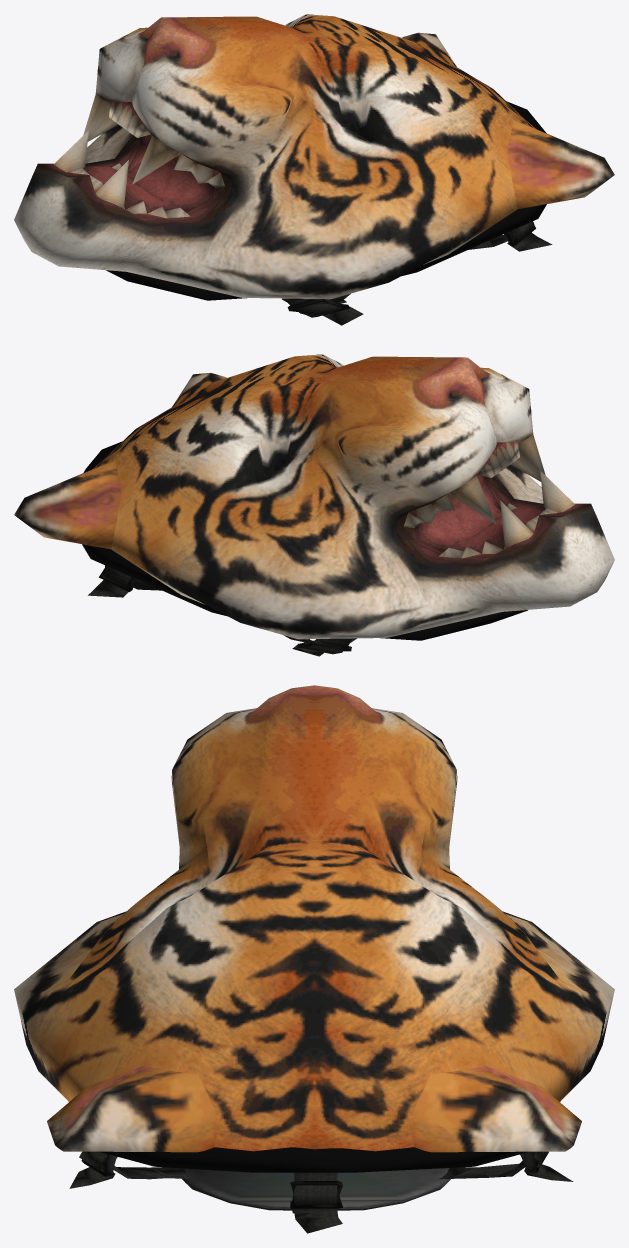
The model's file is TigerMask_Ground.fbx.
3 views of the same model, one above another, from view 1: azimuth 30°, elevation 25°; view 2: azimuth 150°, elevation 25°; view 3: azimuth 270°, elevation 25° (orthographic). The views are drawn at different scales.
Parts seen in each view (by area): view 1: TigerMask.002; view 2: TigerMask.002; view 3: TigerMask.002.
Boxes of the visible parts, <box> form: TigerMask.002: <box>14,14,614,325</box>; TigerMask.002: <box>14,354,614,656</box>; TigerMask.002: <box>14,685,614,1233</box>.
Bounding box in the file's own units: 0.1638 × 0.08 × 0.1201.
